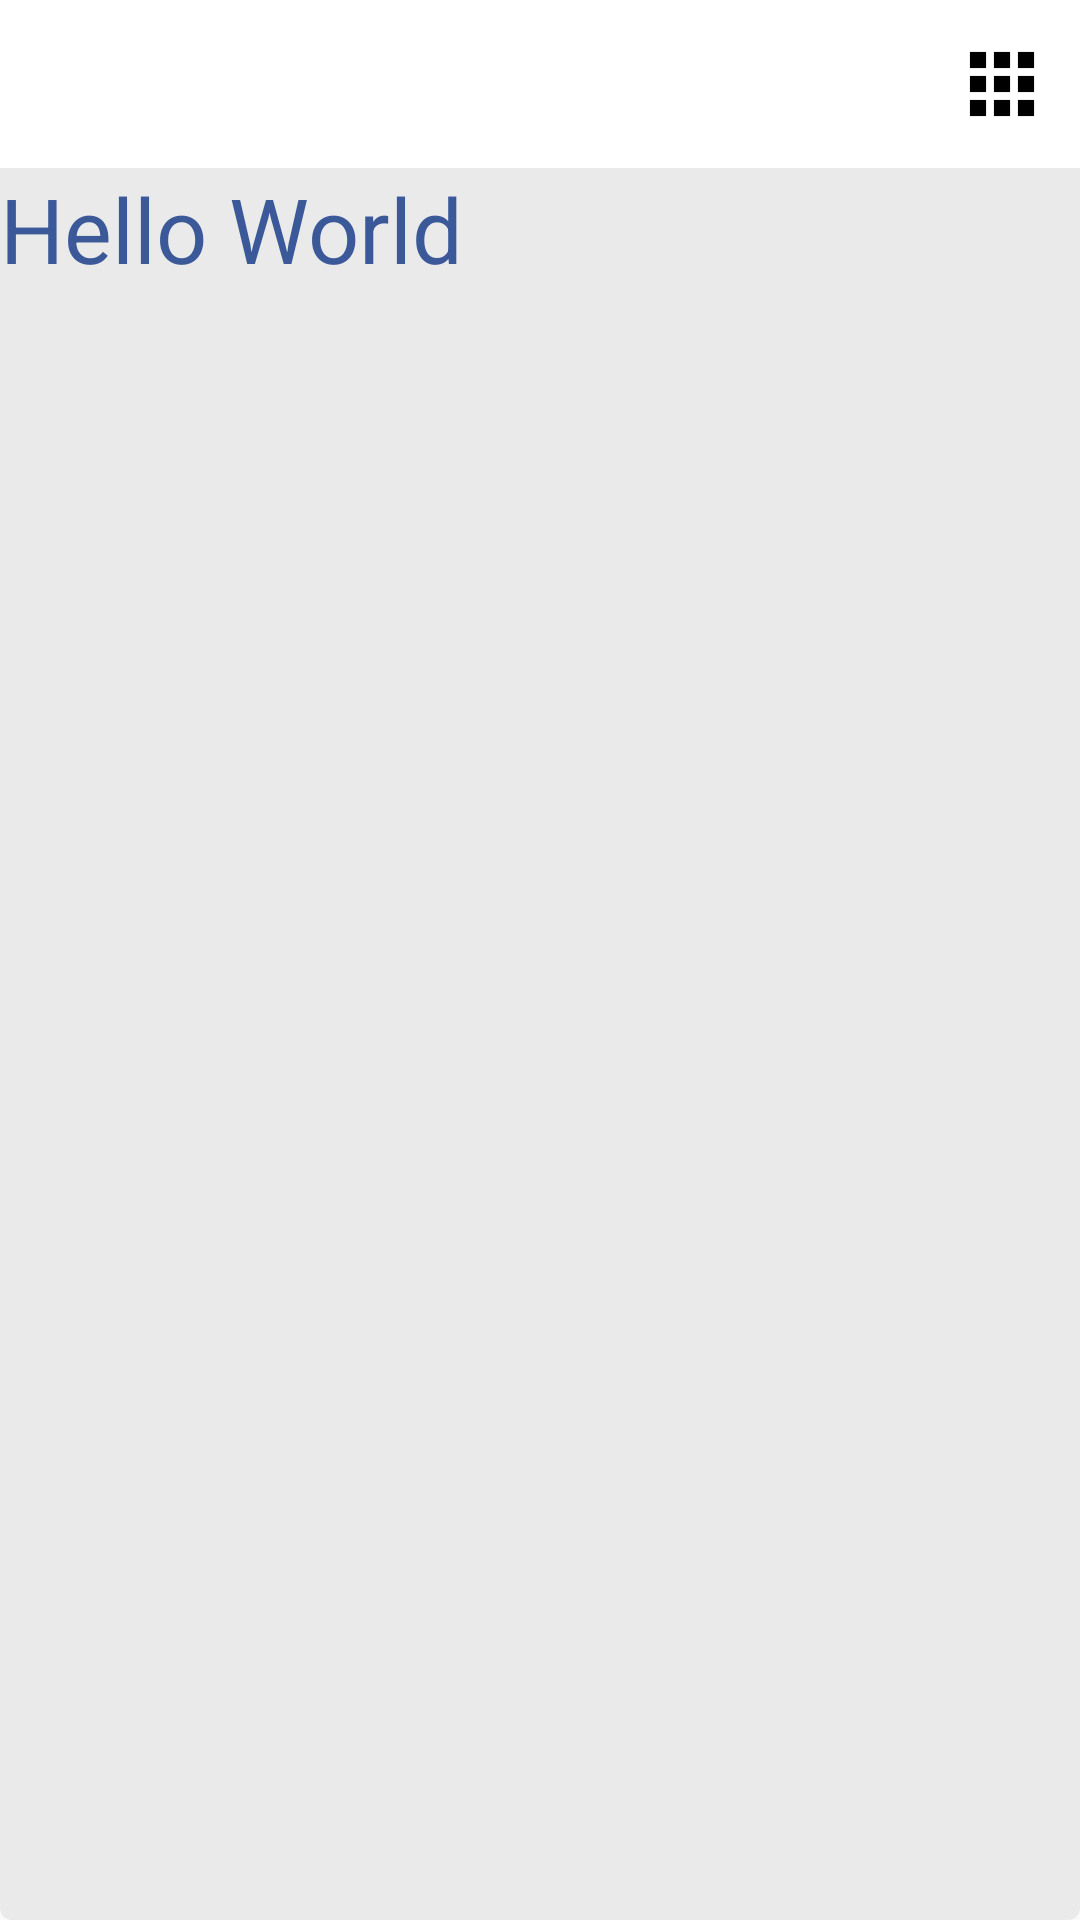

Screen size 1080w x 1920h. Icon name, then its box in pixels as (x1, y1, x2, y2):
apps: (970, 52, 1034, 116)
